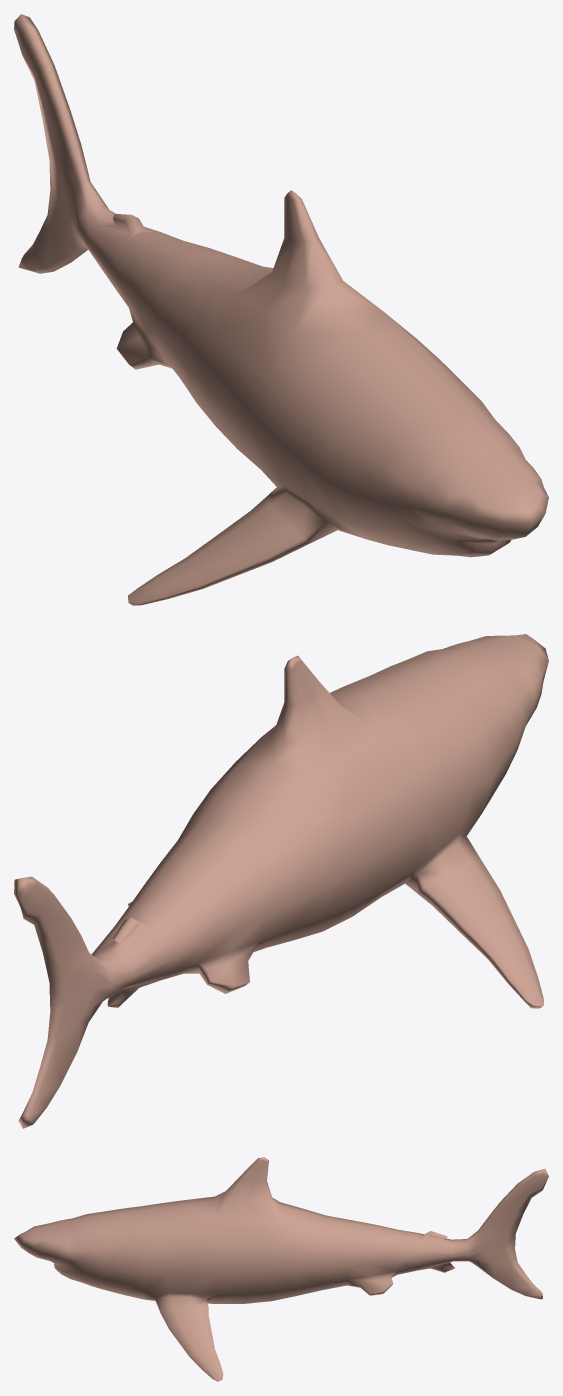
Rendered from Shark 1.fbx.
3 renders of one model, top to bottom at view 1: azimuth 30°, elevation 25°; view 2: azimuth 150°, elevation 25°; view 3: azimuth 270°, elevation 25°, orthographic. The views are drawn at different scales.
Visible parts, largest first — view 1: Shark:Shark; view 2: Shark:Shark; view 3: Shark:Shark.
Boxes of the visible parts, left/top/right/bottom form: Shark:Shark: left=14, top=14, right=548, bottom=605; Shark:Shark: left=14, top=634, right=548, bottom=1128; Shark:Shark: left=14, top=1157, right=548, bottom=1381.
Bounding box in the file's own units: 216 × 166 × 464.
